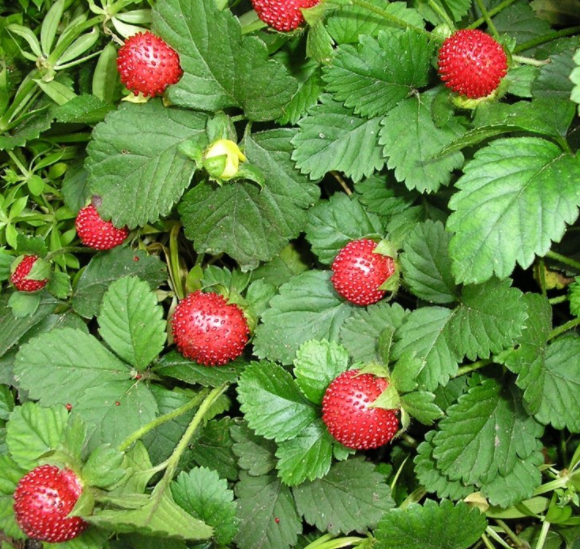ripe: (170, 286, 255, 371), (320, 370, 404, 451), (13, 461, 91, 546), (435, 28, 509, 99), (329, 237, 399, 306), (116, 31, 184, 99), (75, 198, 130, 255), (244, 1, 327, 33), (8, 247, 53, 296)
unripe: (203, 136, 244, 182)
